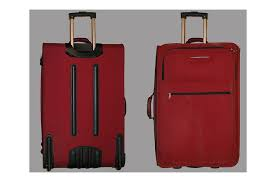suitcase: (143, 7, 243, 172), (39, 9, 130, 170)
